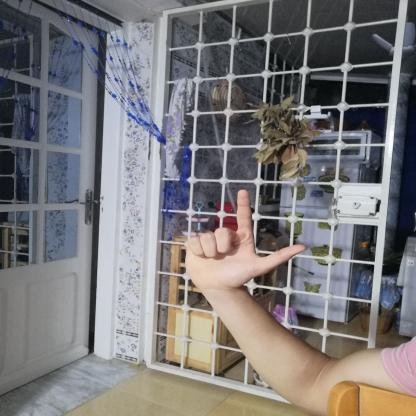LAAM: (172, 181, 314, 298)
